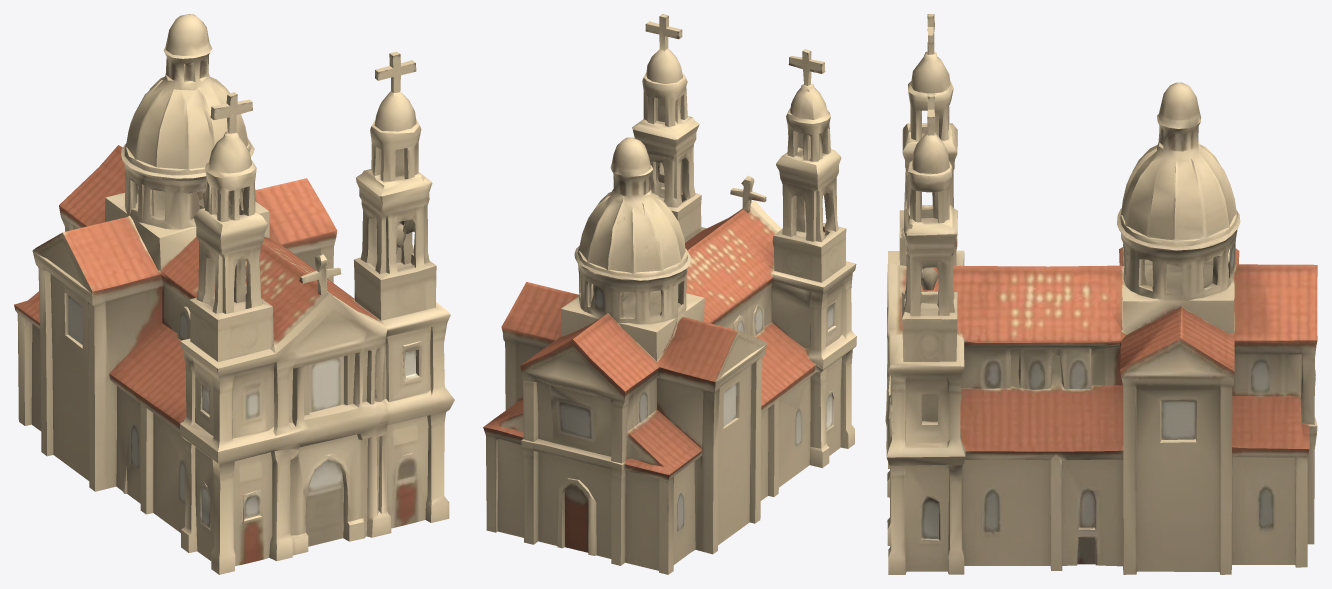
Rendered from w4-st-ignatius.glb.
The picture shows the model from 3 angles, left to right: view 1: azimuth 30°, elevation 25°; view 2: azimuth 150°, elevation 25°; view 3: azimuth 270°, elevation 25°; orthographic projection. The views are drawn at different scales.
Parts seen in each view (by area): view 1: w4-st-ignatius; view 2: w4-st-ignatius; view 3: w4-st-ignatius.
Boxes of the visible parts, <box> form: w4-st-ignatius: <box>14,14,454,574</box>; w4-st-ignatius: <box>483,14,856,574</box>; w4-st-ignatius: <box>885,14,1317,574</box>.
Bounding box in the file's own units: 7.5 × 13.2 × 11.15.
1 material, 1 textured.
